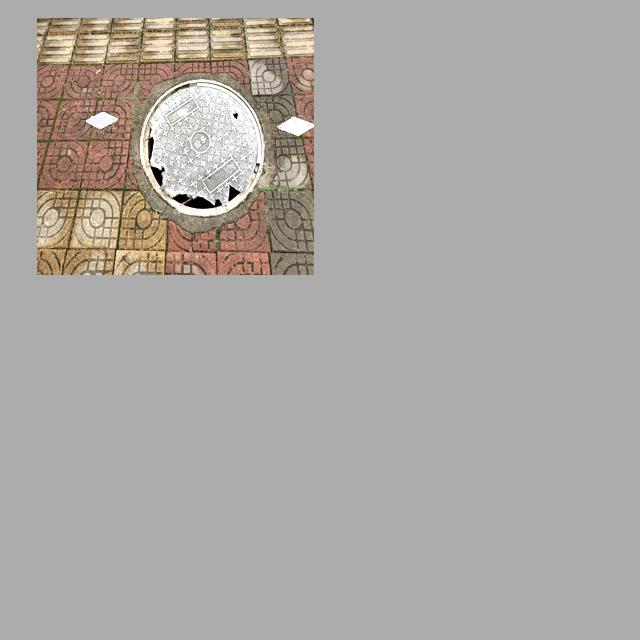broke: (140, 79, 266, 218)
